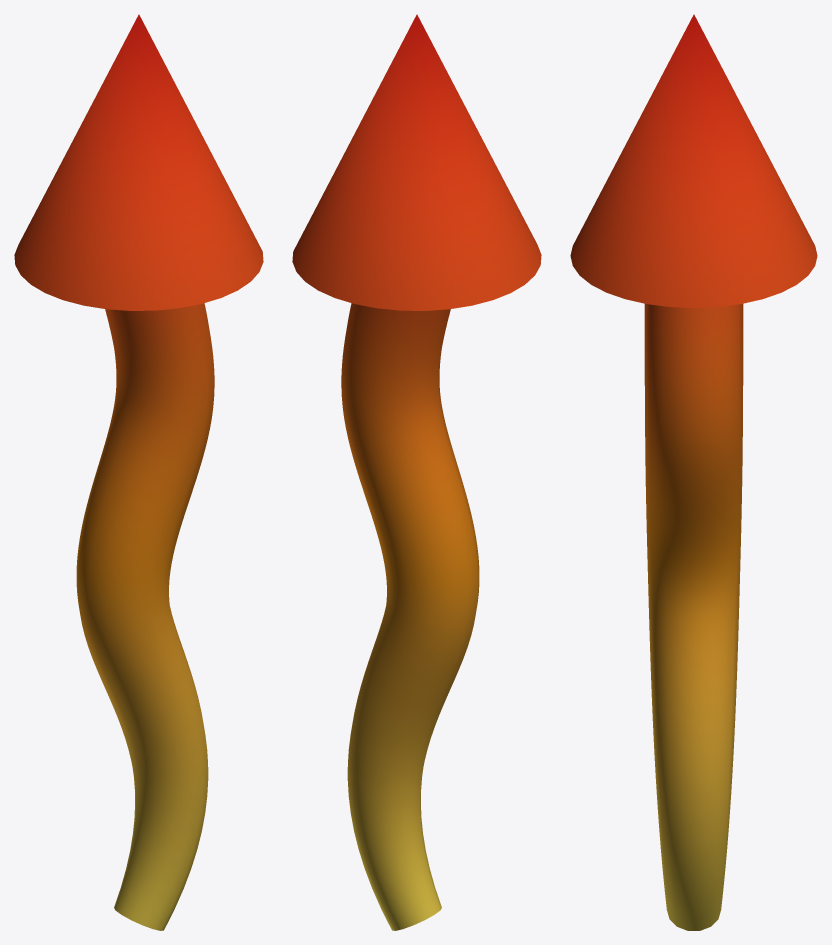
The model's file is arrow-heat.glb.
3 views of the same model, side by side, from view 1: azimuth 30°, elevation 25°; view 2: azimuth 150°, elevation 25°; view 3: azimuth 270°, elevation 25° (orthographic).
Parts seen in each view (by area): view 1: arrow; view 2: arrow; view 3: arrow.
Boxes of the visible parts, <box> form: arrow: <box>14,14,263,930</box>; arrow: <box>292,14,541,930</box>; arrow: <box>570,14,817,930</box>.
Bounding box in the file's own units: 0.25 × 1.01 × 0.25.
